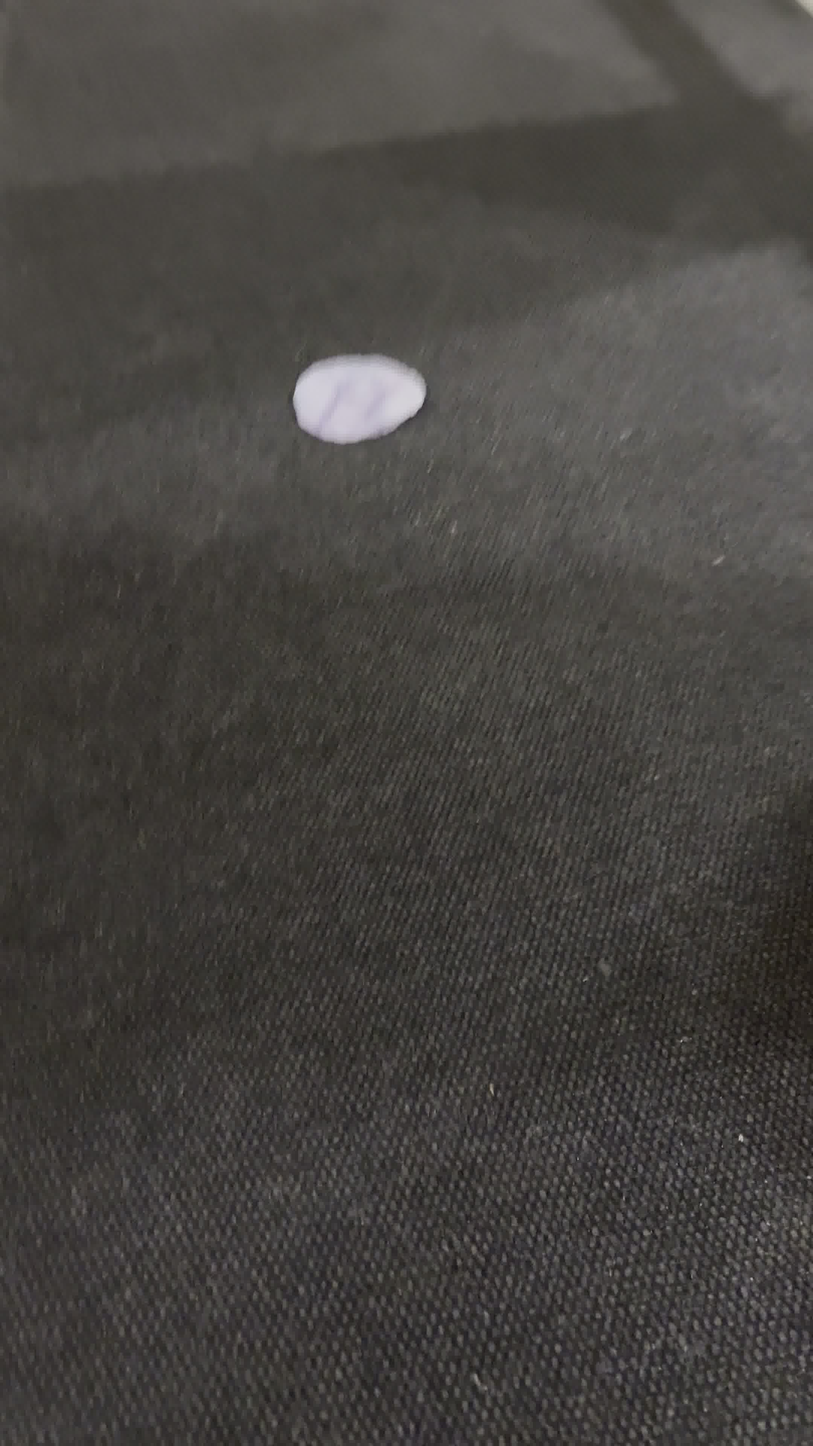Target: (293, 353, 427, 444)
